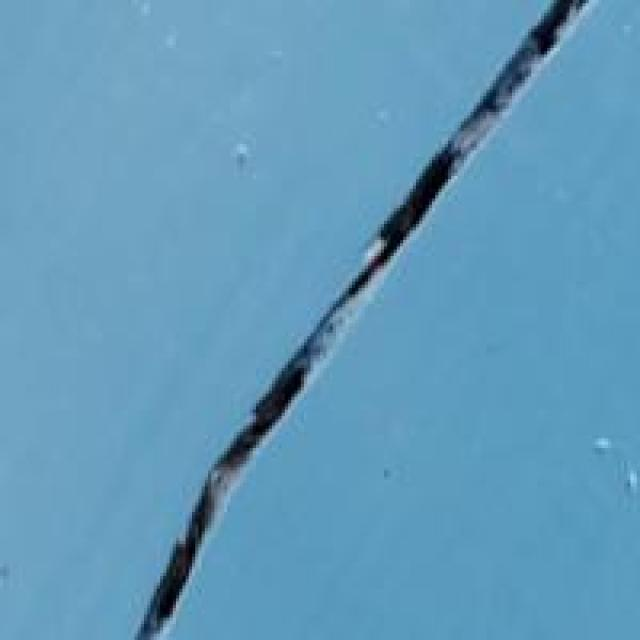crack: (118, 0, 580, 634)
